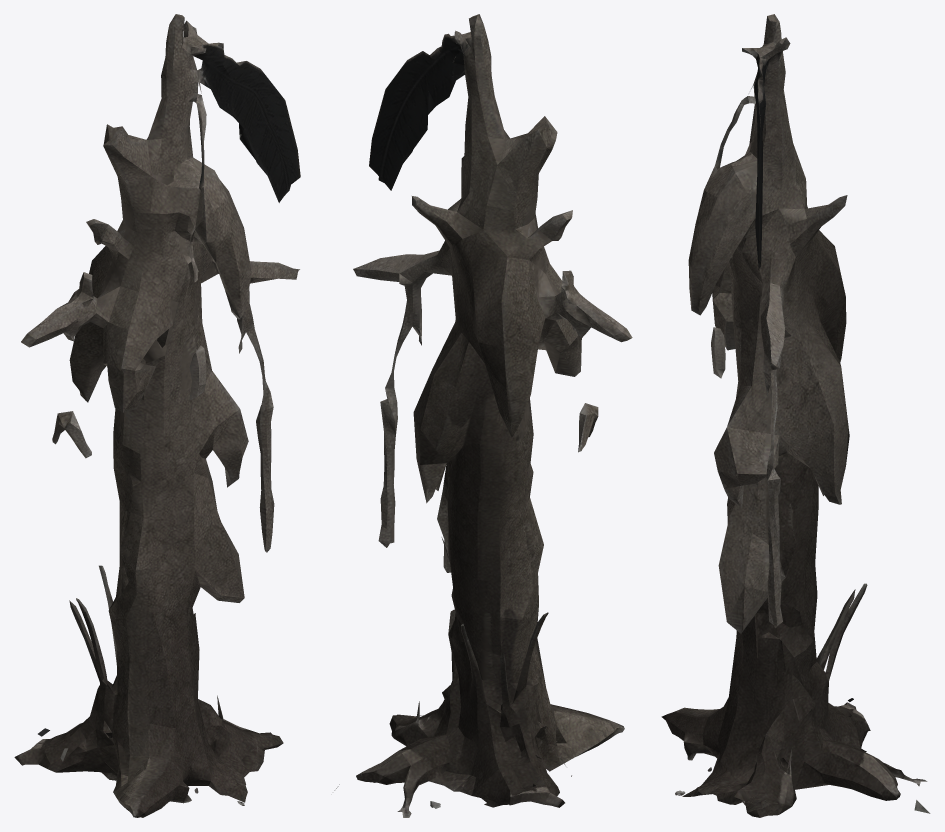
Rendered from m17-witch-totem.glb.
3 renders of one model, left to right at view 1: azimuth 30°, elevation 25°; view 2: azimuth 150°, elevation 25°; view 3: azimuth 270°, elevation 25°, orthographic. The views are drawn at different scales.
Bounding box in the file's own units: 0.7229 × 1.87 × 0.5909.
Materials: 1 (1 with a texture image).
